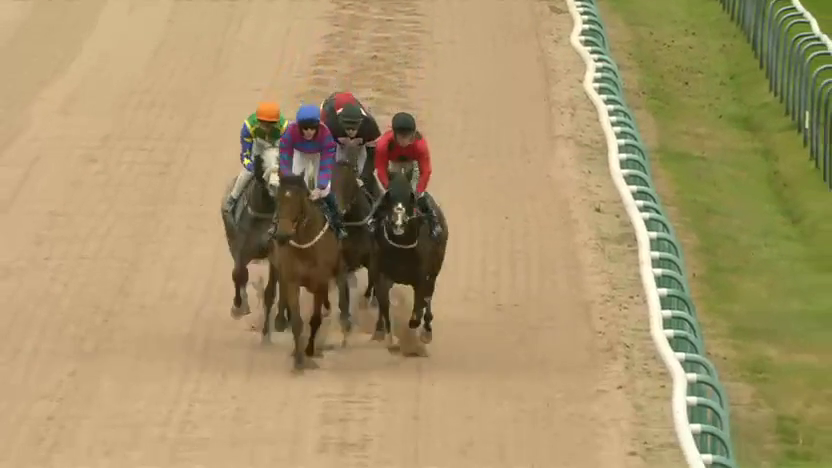jockey: (283, 108, 330, 208), (238, 104, 285, 198), (379, 117, 427, 193), (333, 109, 375, 184)
